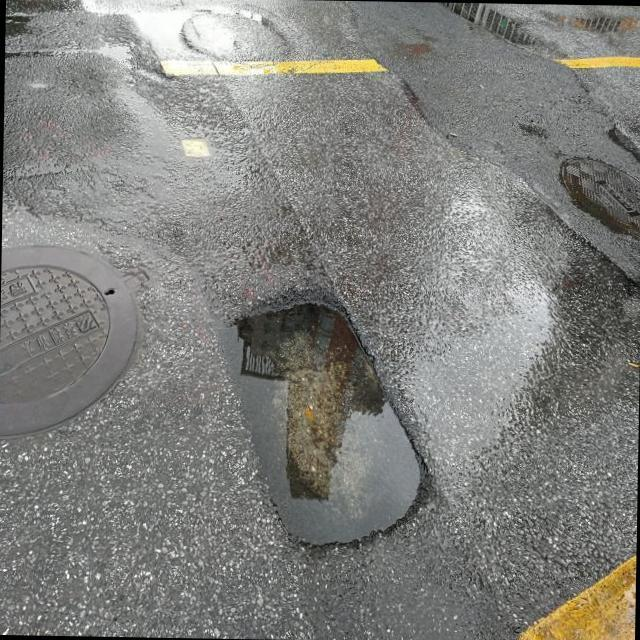Pothole: (221, 304, 422, 546)
